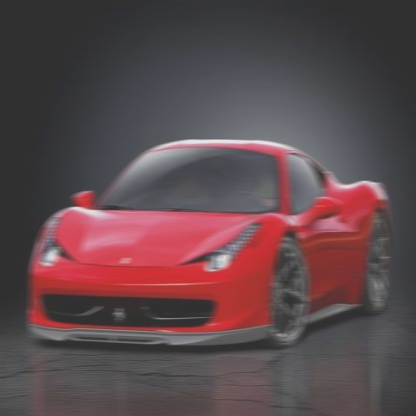Vehicle: (27, 135, 392, 348)
